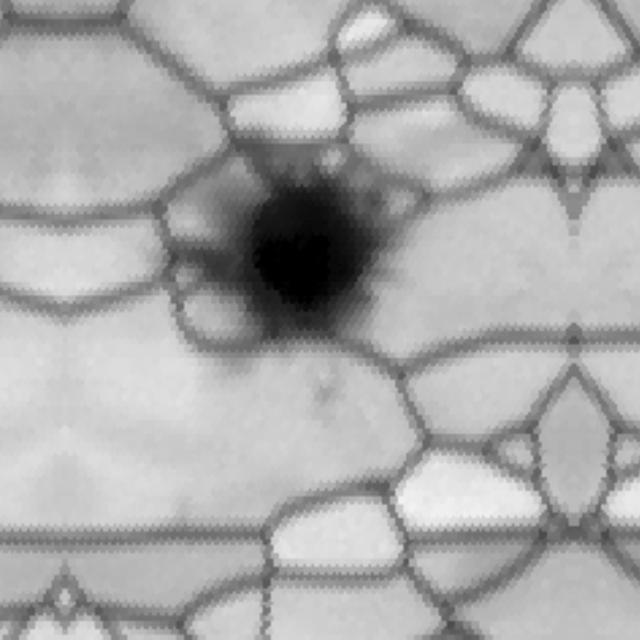good_void: (139, 130, 443, 401)
